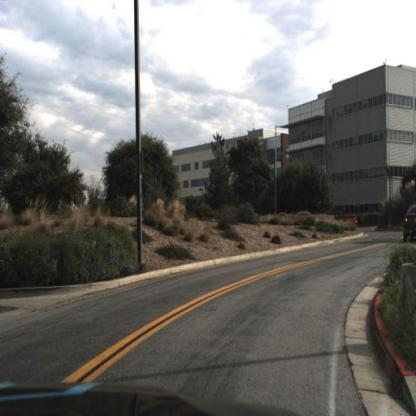car: (404, 203, 416, 238), (341, 214, 359, 231)
